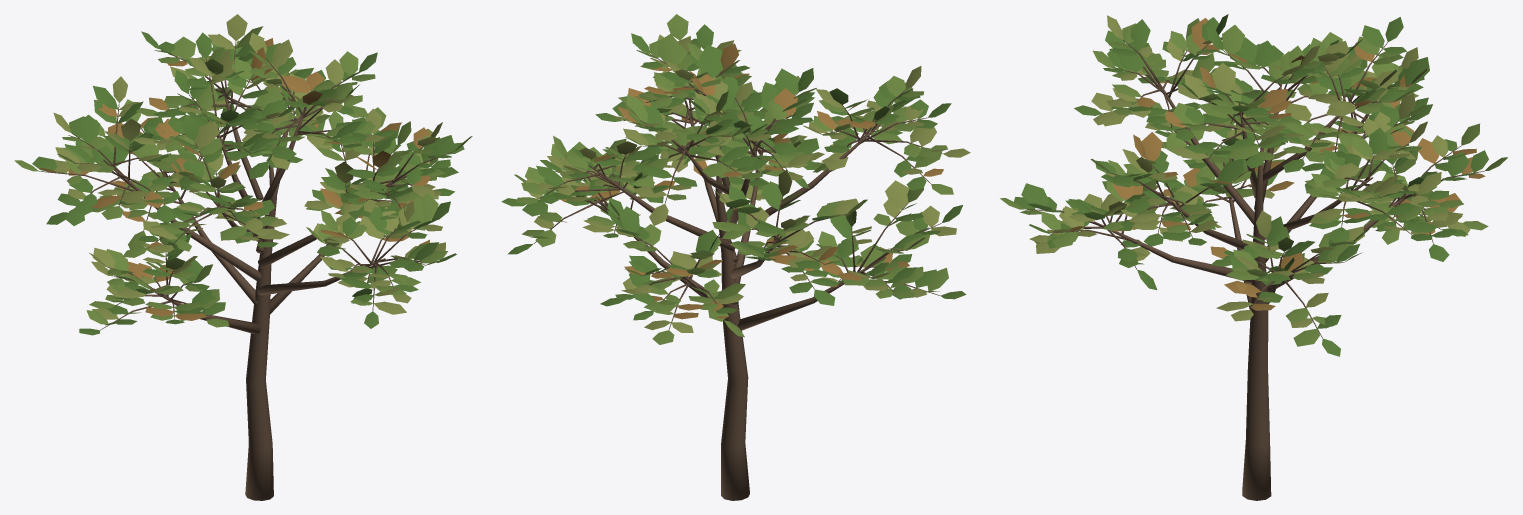
File: street-tree.glb
3 views of the same model, side by side, from view 1: azimuth 30°, elevation 25°; view 2: azimuth 150°, elevation 25°; view 3: azimuth 270°, elevation 25° (orthographic). The views are drawn at different scales.
Parts seen in each view (by area): view 1: StreetTreeEarlyAutumn; view 2: StreetTreeEarlyAutumn; view 3: StreetTreeEarlyAutumn.
Boxes of the visible parts, x1,y1,x2,y2 form: StreetTreeEarlyAutumn: (14, 14, 472, 500); StreetTreeEarlyAutumn: (501, 14, 970, 500); StreetTreeEarlyAutumn: (1000, 14, 1507, 500).
Bounding box in the file's own units: 5.61 × 6 × 6.01.
